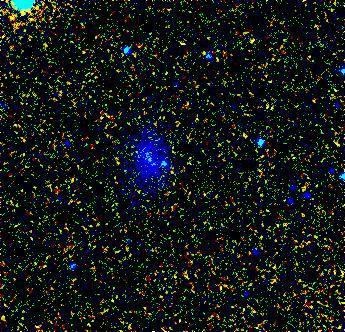star: (152, 148, 182, 178)
